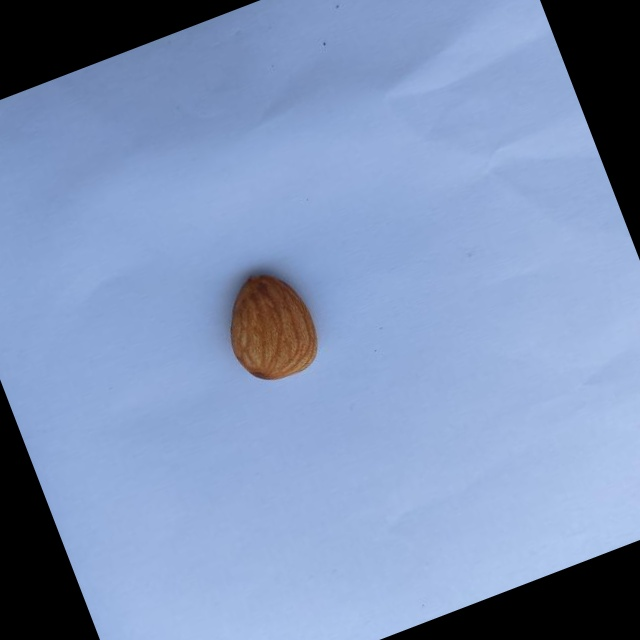grade1: (202, 250, 340, 400)
